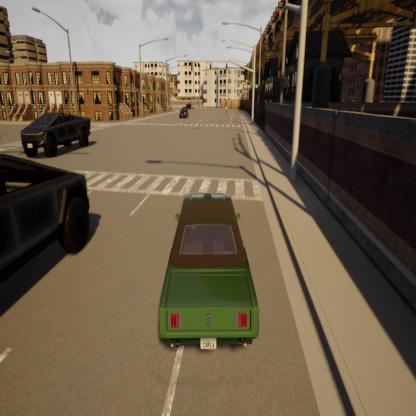Cars: (138, 183, 268, 372), (0, 136, 100, 304), (18, 108, 95, 159), (175, 104, 191, 121)
